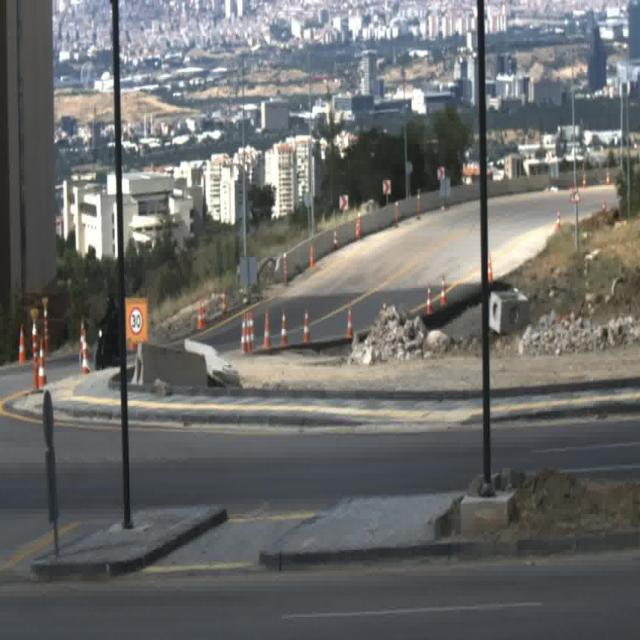Motorcycle: (95, 297, 118, 364)
